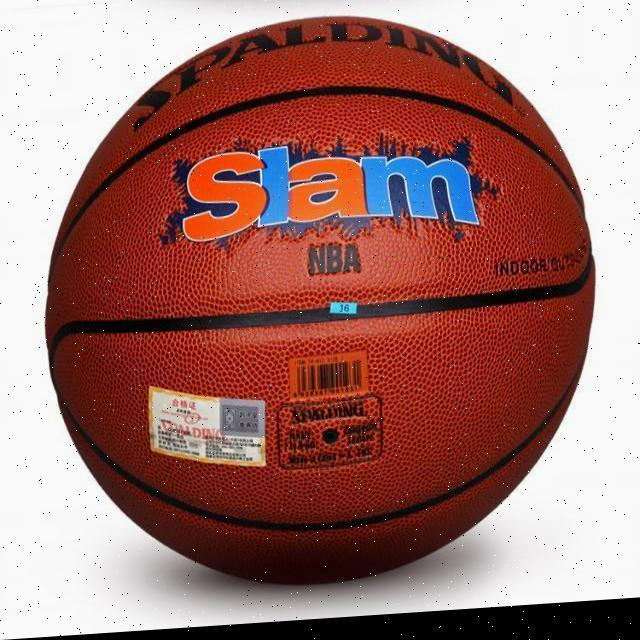Basketball: (46, 0, 595, 603)
